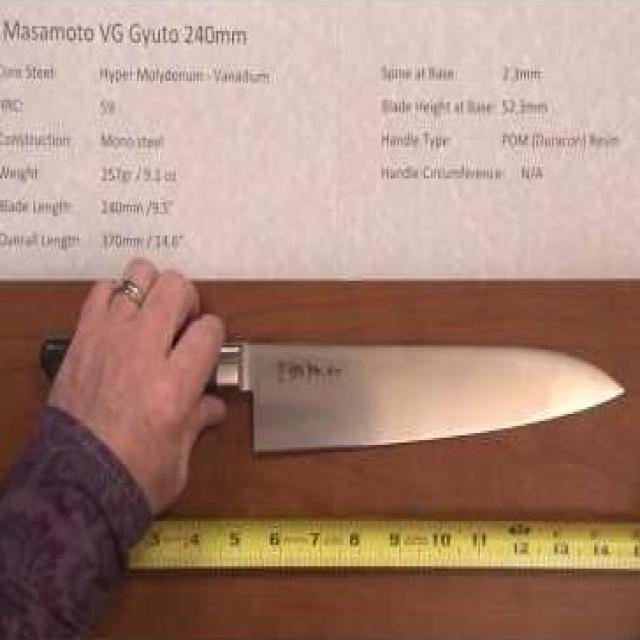knife: (233, 332, 631, 457)
